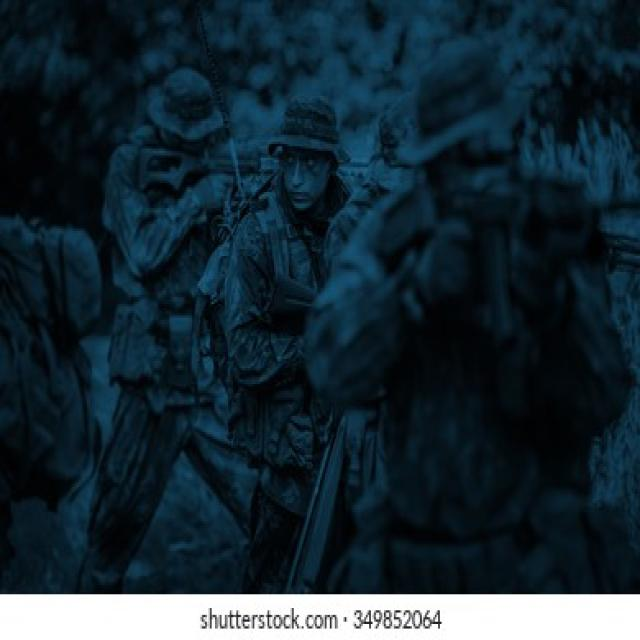Forest: (1, 0, 640, 594)
Militant: (346, 38, 602, 586), (80, 44, 290, 590), (189, 82, 392, 574)
